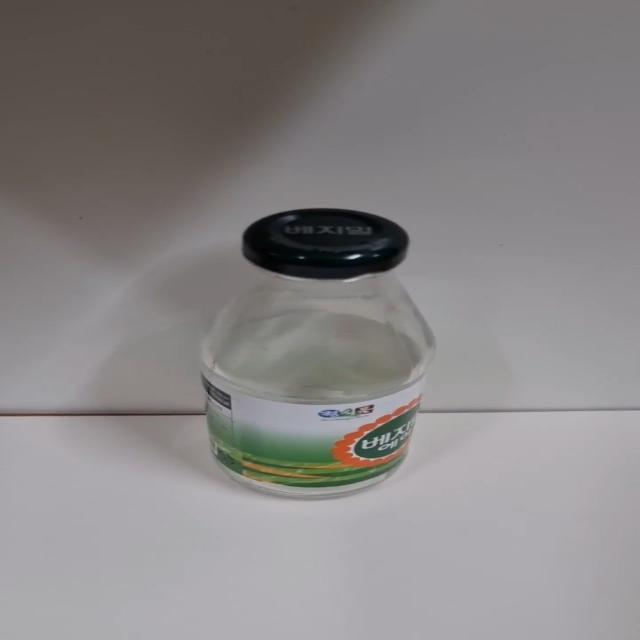Glass: (197, 208, 436, 504)
